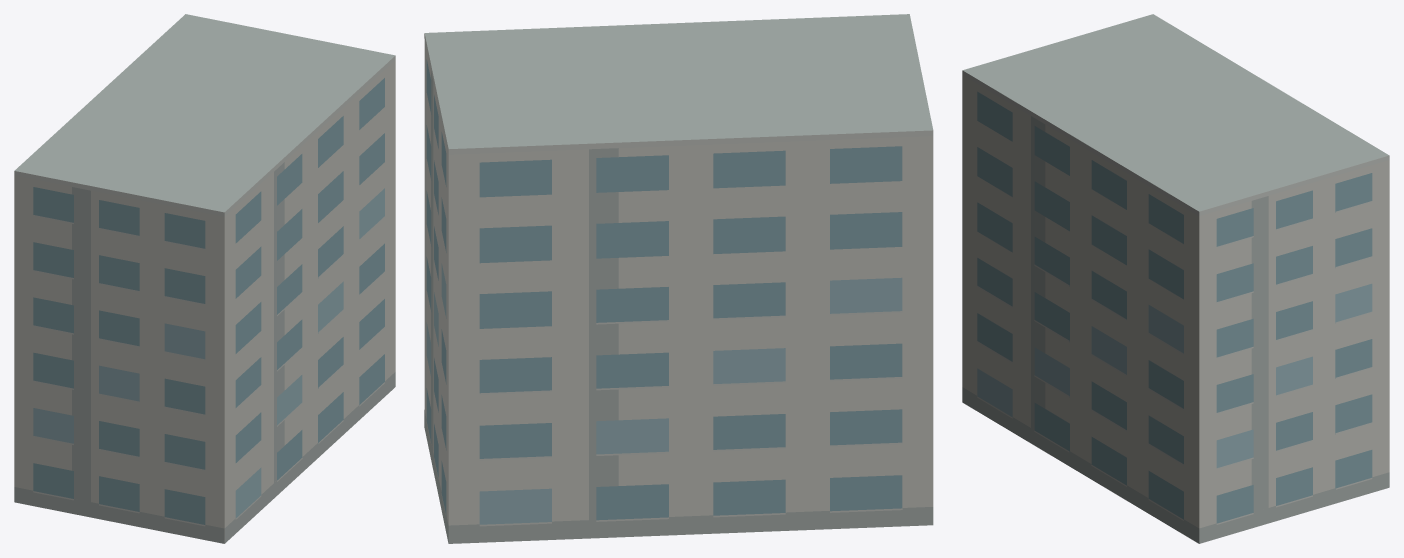
Rendered from survey-upis-32490824.glb.
3 renders of one model, left to right at view 1: azimuth 30°, elevation 25°; view 2: azimuth 150°, elevation 25°; view 3: azimuth 270°, elevation 25°, orthographic. The views are drawn at different scales.
Visible parts, largest first — view 1: survey-upis-32490824.tmp; view 2: survey-upis-32490824.tmp; view 3: survey-upis-32490824.tmp.
Part boxes in pixels (left/top/right/bottom): survey-upis-32490824.tmp: left=14, top=14, right=395, bottom=543; survey-upis-32490824.tmp: left=424, top=14, right=933, bottom=543; survey-upis-32490824.tmp: left=962, top=14, right=1389, bottom=543.
Bounding box in the file's own units: 22.22 × 17.4 × 20.28.
